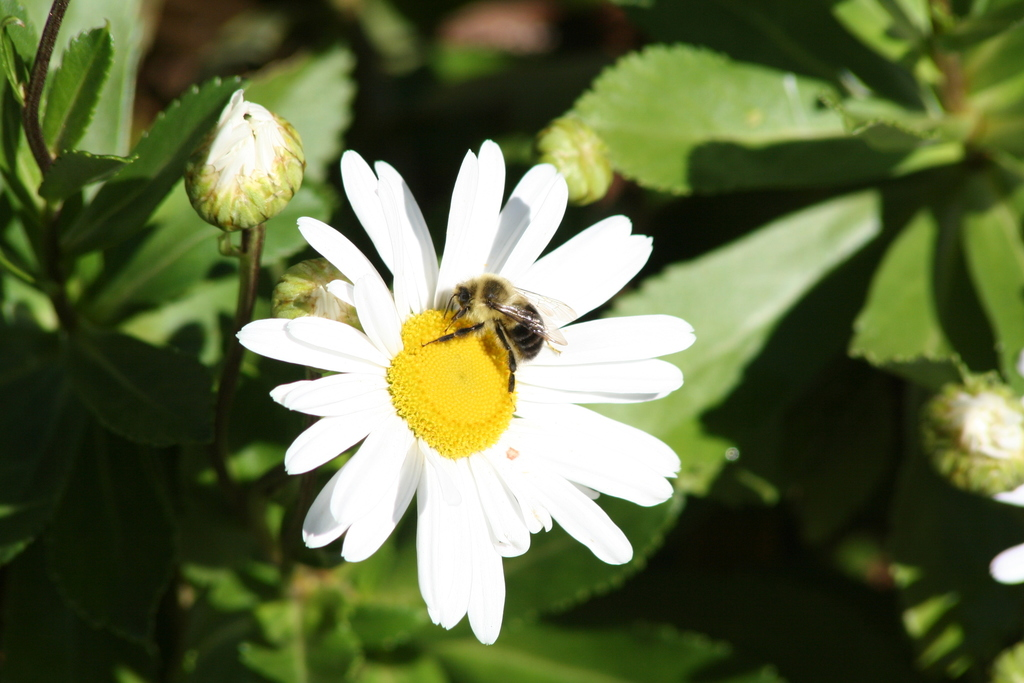bumblebee: (417, 274, 577, 395)
